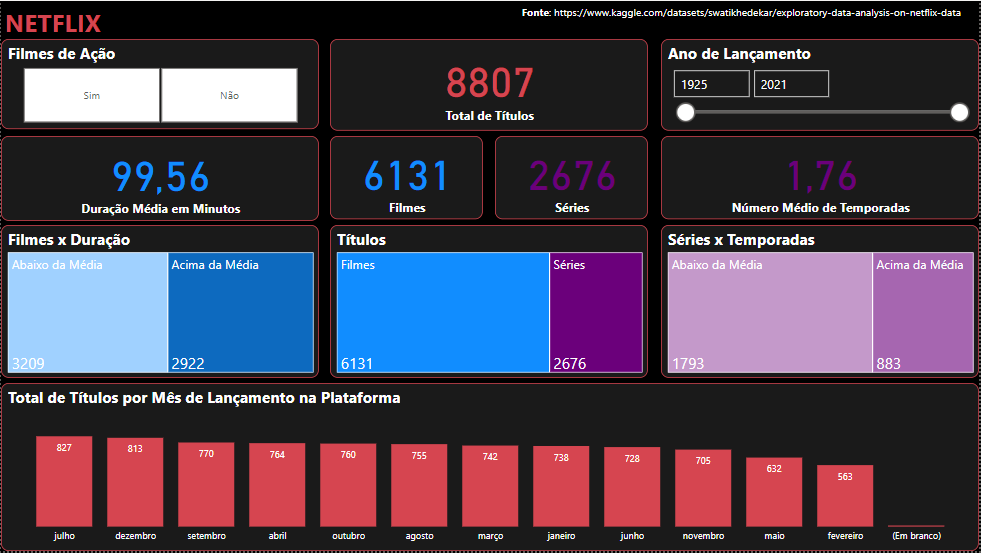

What the dashboard file says about the page in this screenshot:
{"tool":"powerbi","page":{"name":"Página 1","canvas":[1280,720],"ordinal":0},"visuals":[{"type":"card","fields":{"Values":["netflix_titles_2021.titulos"]},"box":[430.6,50.4,416.2,119.5],"z":0},{"type":"card","fields":{"Values":["netflix_titles_2021.movie"]},"box":[430.6,177.1,200.2,109.4],"z":1000},{"type":"card","fields":{"Values":["netflix_titles_2021.tv_show"]},"box":[646.6,177.1,200.2,109.4],"z":2000},{"type":"card","fields":{"Values":["netflix_titles_2021.movie_time"]},"box":[0,177.1,416.2,110.9],"z":3000},{"type":"card","fields":{"Values":["netflix_titles_2021.tv_show_time"]},"box":[863.8,177.1,416.2,109.4],"z":4000},{"type":"treemap","title":"Séries x Temporadas","fields":{"Values":["netflix_titles_2021.tv_show_low_avg_time","netflix_titles_2021.tv_show_high_avg_time"]},"box":[863.8,293.8,416.2,200.2],"z":5000},{"type":"treemap","title":"Títulos","fields":{"Values":["netflix_titles_2021.movie","netflix_titles_2021.tv_show"]},"box":[430.6,293.8,416.2,200.2],"z":6000},{"type":"treemap","title":"Filmes x Duração","fields":{"Values":["netflix_titles_2021.movie_low_avg_time","netflix_titles_2021.movie_high_avg_time"]},"box":[0,293.8,416.2,200.2],"z":7000},{"type":"slicer","title":"Filmes de Ação","fields":{"Values":["netflix_titles_2021.Action"]},"box":[0,50.4,416.2,118.1],"z":8000},{"type":"slicer","title":"Ano de Lançamento","fields":{"Values":["netflix_titles_2021.release_year"]},"box":[863.8,50.4,416.2,119.5],"z":9000},{"type":"columnChart","title":"Total de Títulos por Mês de Lançamento na Plataforma","fields":{"Y":["CountNonNull(netflix_titles_2021.title)"],"Category":["netflix_titles_2021.date_added.Variation.Hierarquia de datas.Mês"]},"box":[0,500,1280.2,220],"z":10000},{"type":"textbox","box":[0,0,178.6,56.2],"z":11000},{"type":"textbox","box":[676.8,0,603.4,31.7],"z":12000}]}

Visuals, with their boxes in screenshot pixels (x1, y1, x2, y2), scaled from the page's 1280x720 canvas onto the 981x553 screenshot:
card - netflix_titles_2021.titulos: 330:39:649:130
card - netflix_titles_2021.movie: 330:136:483:220
card - netflix_titles_2021.tv_show: 496:136:649:220
card - netflix_titles_2021.movie_time: 0:136:319:221
card - netflix_titles_2021.tv_show_time: 662:136:980:220
"Séries x Temporadas" treemap: 662:226:980:379
"Títulos" treemap: 330:226:649:379
"Filmes x Duração" treemap: 0:226:319:379
"Filmes de Ação" slicer: 0:39:319:129
"Ano de Lançamento" slicer: 662:39:980:130
"Total de Títulos por Mês de Lançamento na Plataforma" columnChart: 0:384:980:552
textbox: 0:0:137:43
textbox: 519:0:980:24
